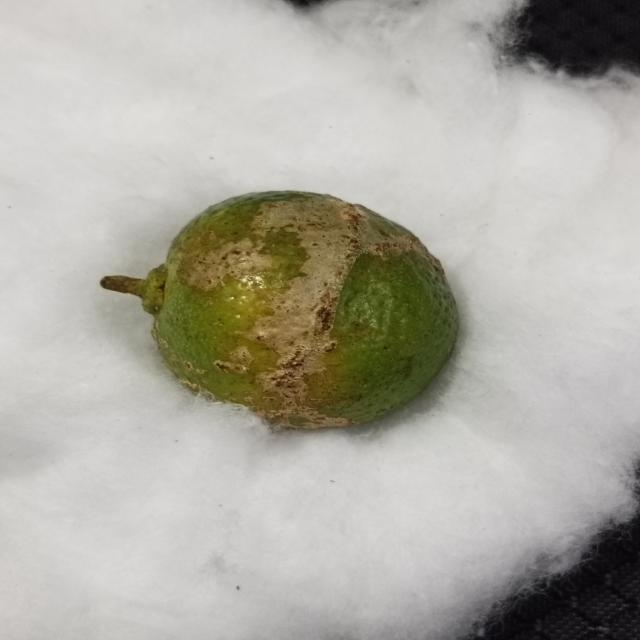thrips: (118, 188, 464, 430)
